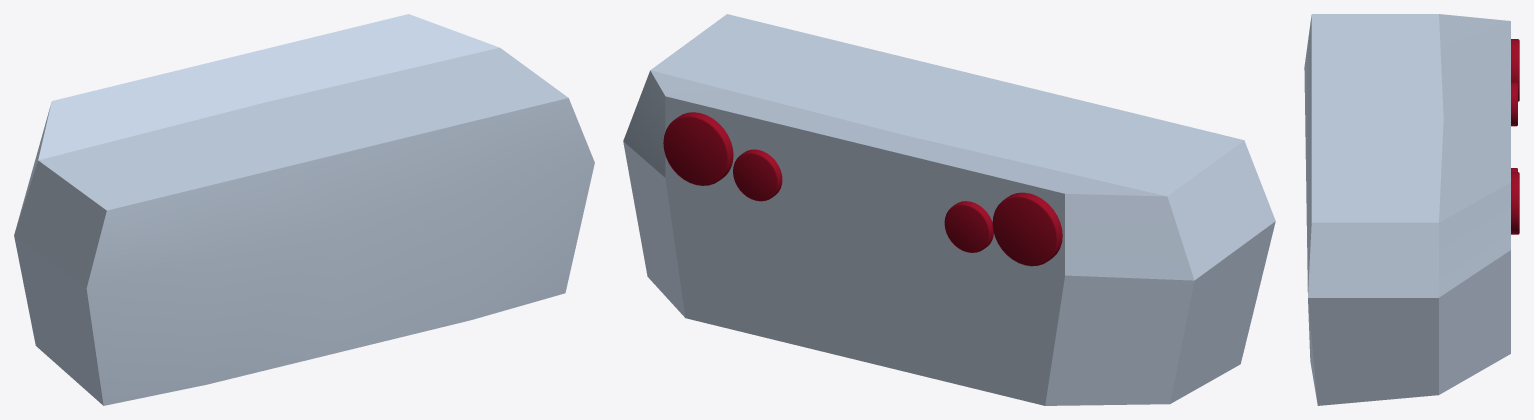
The model's file is Lighting3.fbx.
3 views of the same model, side by side, from view 1: azimuth 30°, elevation 25°; view 2: azimuth 150°, elevation 25°; view 3: azimuth 270°, elevation 25° (orthographic). The views are drawn at different scales.
Visible parts, largest first — view 1: Lighting3.001; view 2: Lighting3.001; view 3: Lighting3.001.
Part boxes in pixels (<box>): Lighting3.001: <box>14,14,594,405</box>; Lighting3.001: <box>623,14,1275,405</box>; Lighting3.001: <box>1304,14,1519,405</box>.
Bounding box in the file's own units: 2.43 × 0.982 × 0.9578.
